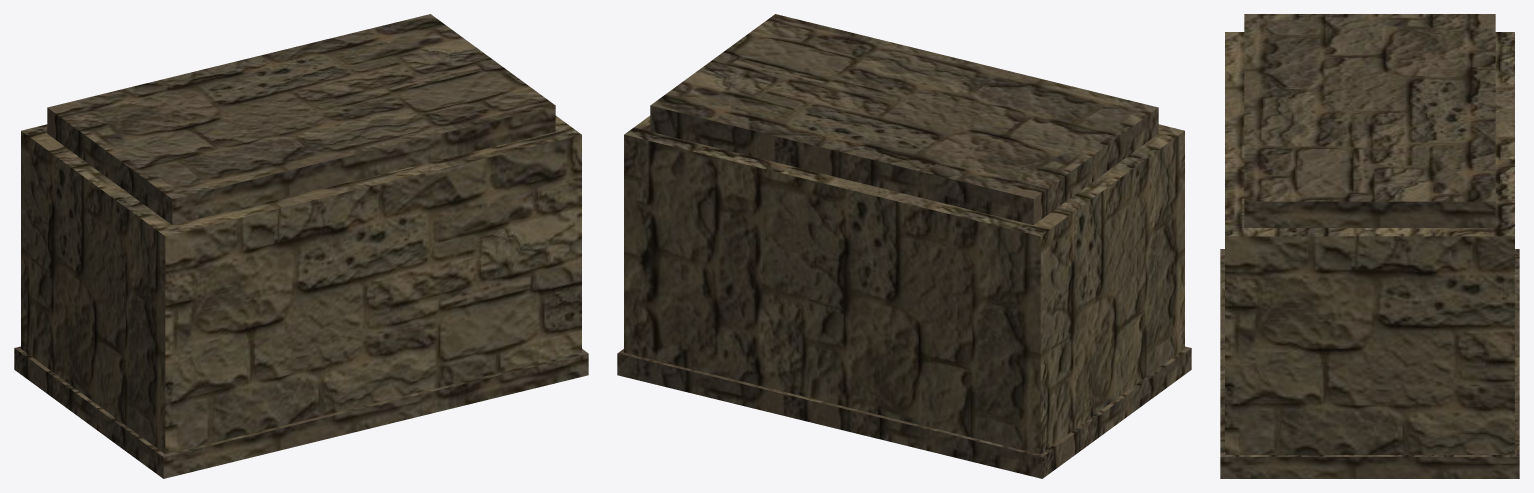
Rendered from wall_block_01.glb.
3 renders of one model, left to right at view 1: azimuth 30°, elevation 25°; view 2: azimuth 150°, elevation 25°; view 3: azimuth 270°, elevation 25°, orthographic.
Parts seen in each view (by area): view 1: wall_block_01; view 2: wall_block_01; view 3: wall_block_01.
Boxes of the visible parts, x1,y1,x2,y2 form: wall_block_01: [14, 14, 588, 478]; wall_block_01: [617, 14, 1191, 478]; wall_block_01: [1220, 14, 1519, 478].
Bounding box in the file's own units: 1.02 × 0.61 × 0.62.
Materials: 2 (2 with a texture image).
